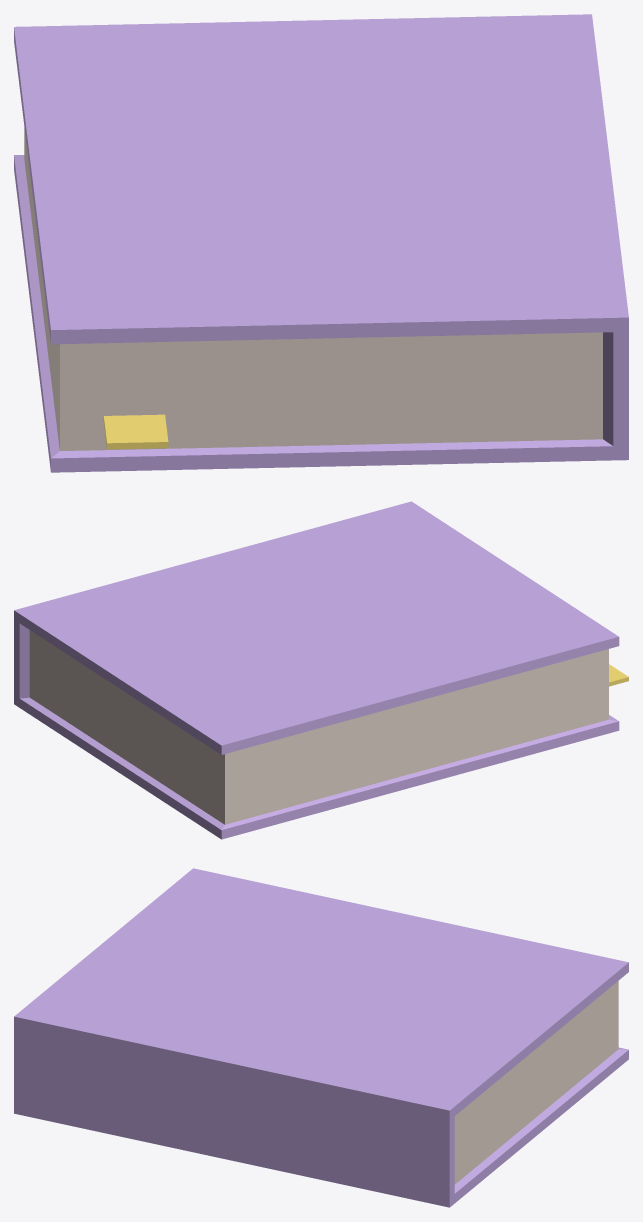
The model's file is Book_8.fbx.
3 renders of one model, top to bottom at view 1: azimuth 30°, elevation 25°; view 2: azimuth 150°, elevation 25°; view 3: azimuth 270°, elevation 25°, orthographic. The views are drawn at different scales.
Visible parts, largest first — view 1: Book_8; view 2: Book_8; view 3: Book_8.
Part boxes in pixels (box(x1,y1,x2,y2)): Book_8: box(14, 14, 628, 472); Book_8: box(14, 501, 628, 839); Book_8: box(14, 868, 628, 1207).
Bounding box in the file's own units: 28.19 × 30.23 × 5.26.
